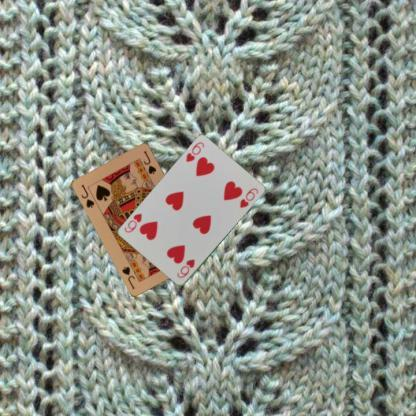6h: (183, 140, 206, 164), (174, 257, 196, 280)
Js: (78, 182, 96, 209)
